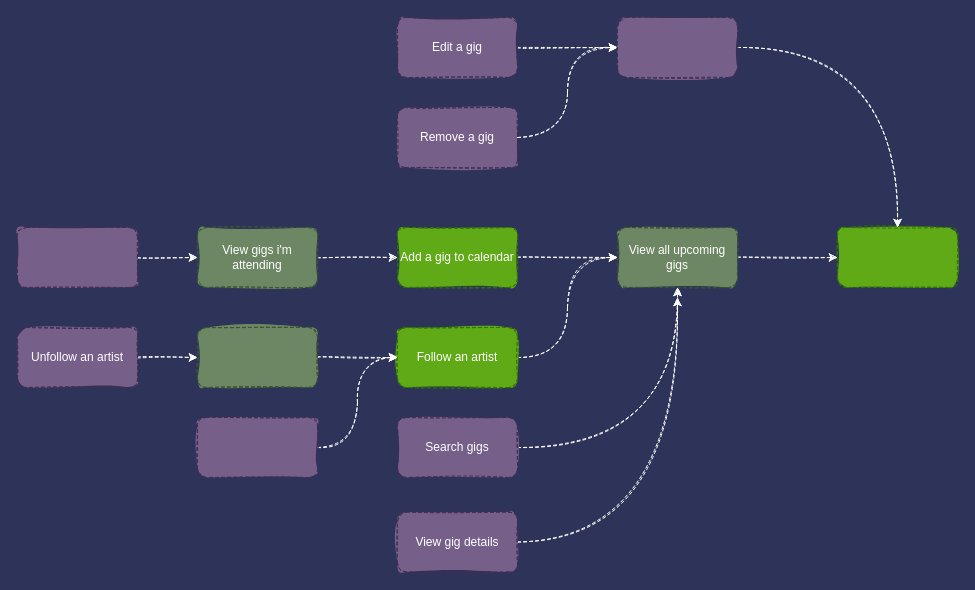
The diagram is 975 pixels wide and 590 high, and some of its shapes have lost their labels. The centre of each missing label's shape, as x and y in pixels:
"Add a gig" goes at [897,257].
"Gig feed" goes at [257,447].
"My upcoming gigs" goes at [677,47].
"Remove a gig from calendar" goes at [77,257].
"Who am i following" goes at [257,357].
